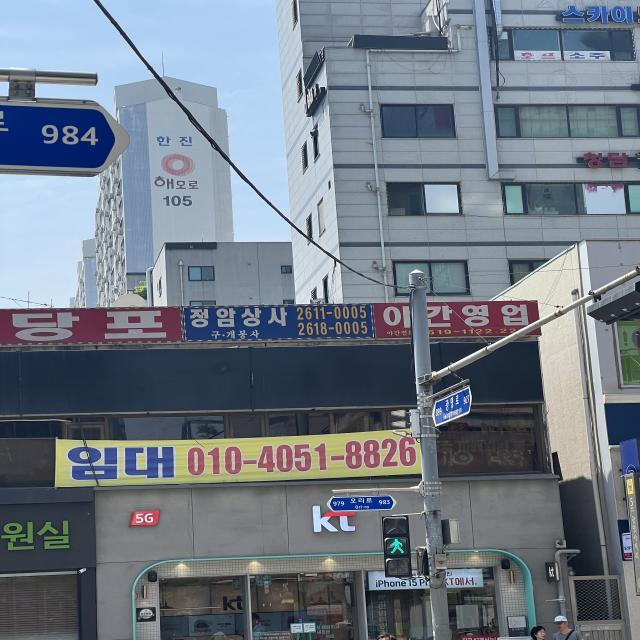green-light: (383, 520, 418, 578)
